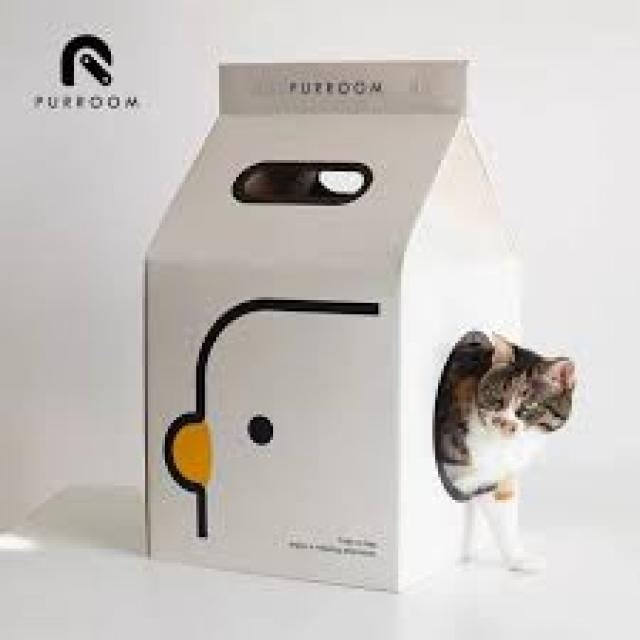non_white_jug: (140, 39, 528, 590)
